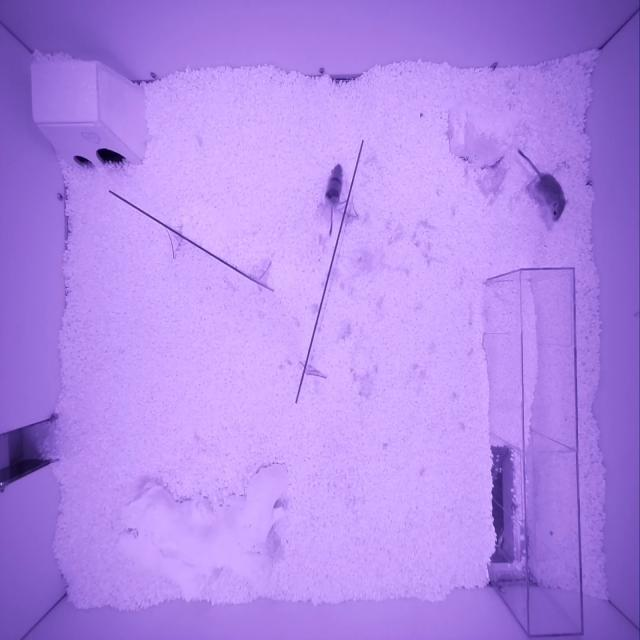pup_fluffy: (531, 173, 569, 223)
pup_h_stripe: (324, 164, 343, 210)
